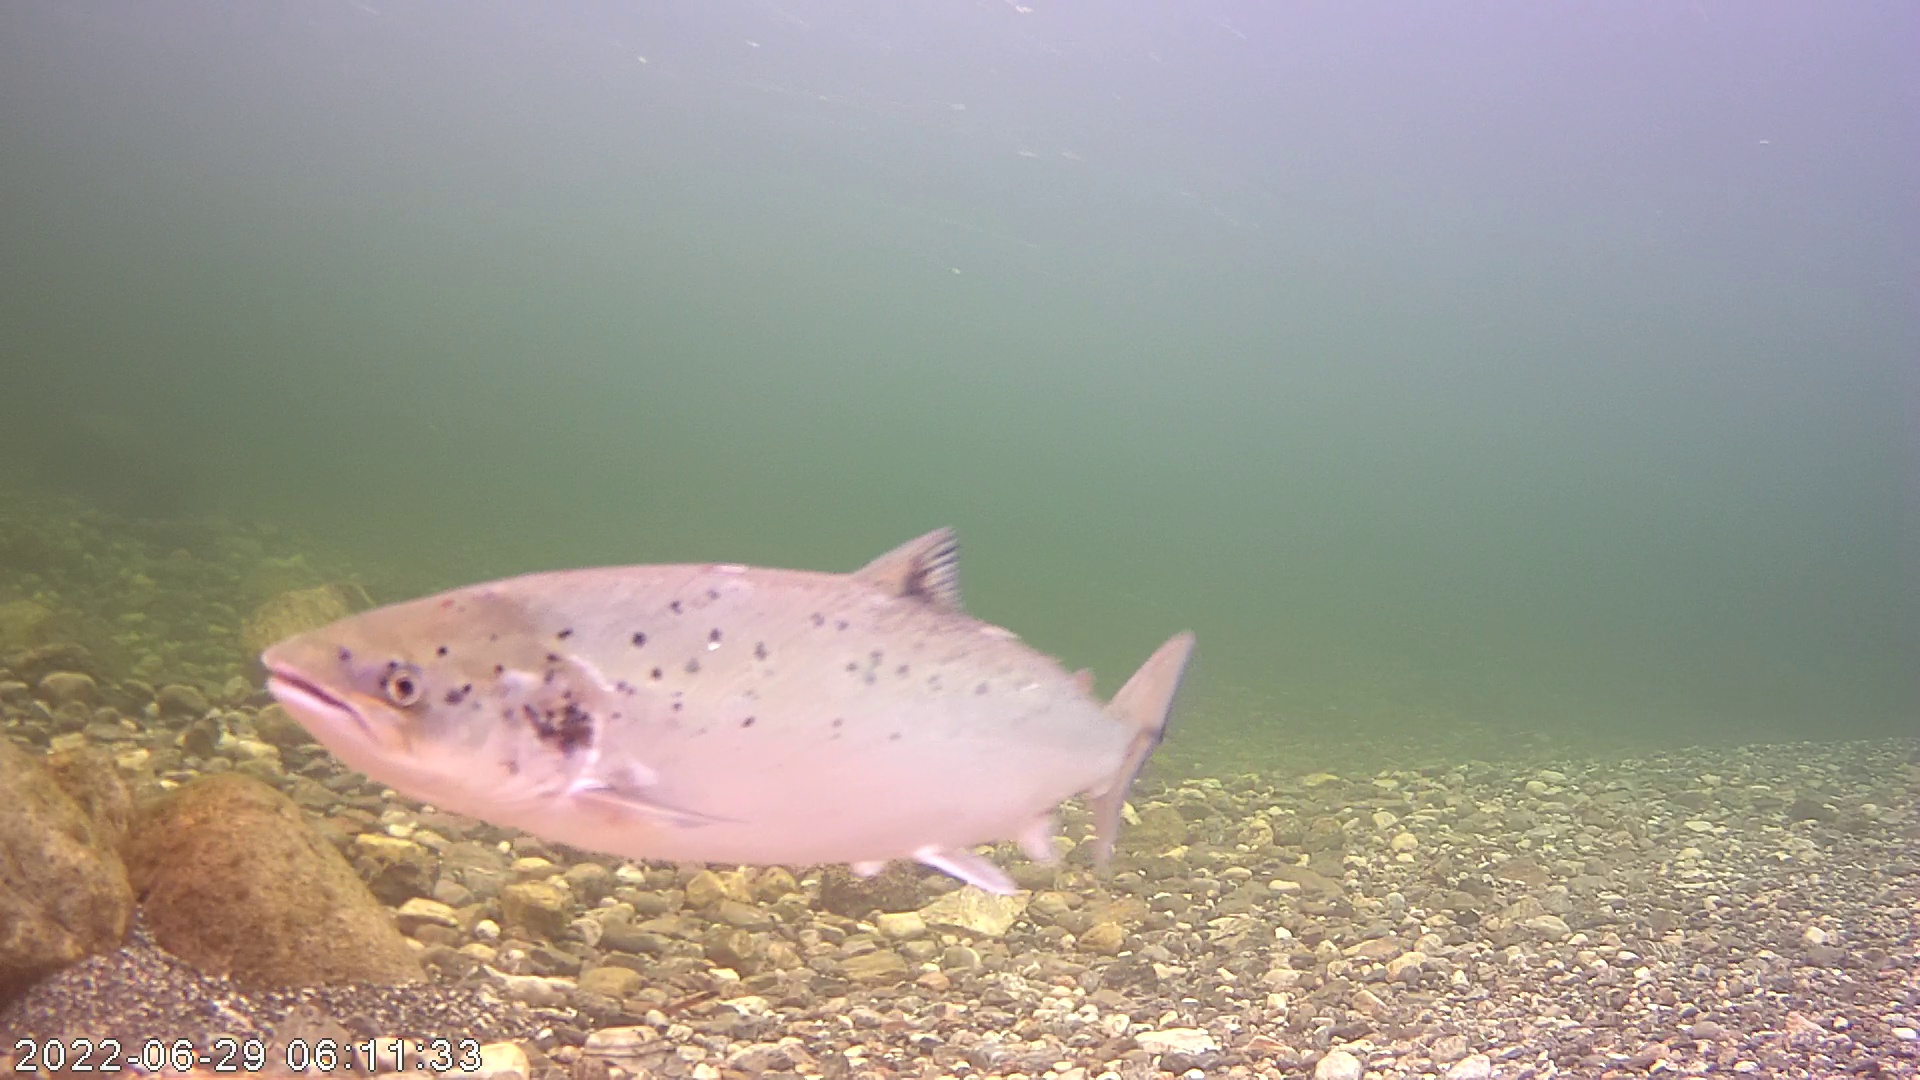salmon: (252, 425, 1195, 905)
